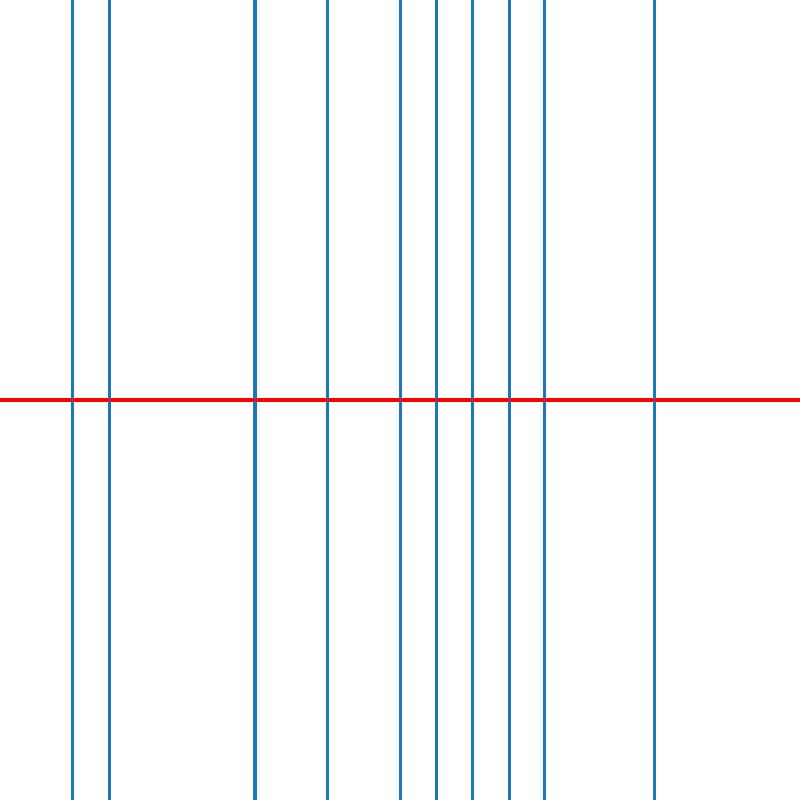root: (650, 396, 658, 404), (250, 396, 258, 404), (541, 396, 549, 404), (432, 396, 440, 404), (505, 396, 512, 404), (105, 396, 112, 404), (396, 396, 403, 404), (323, 396, 330, 404), (469, 396, 476, 404), (69, 396, 76, 404)
